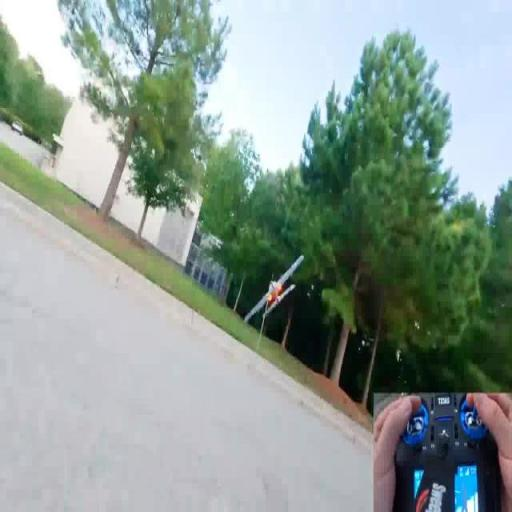uav: (236, 244, 311, 336)
